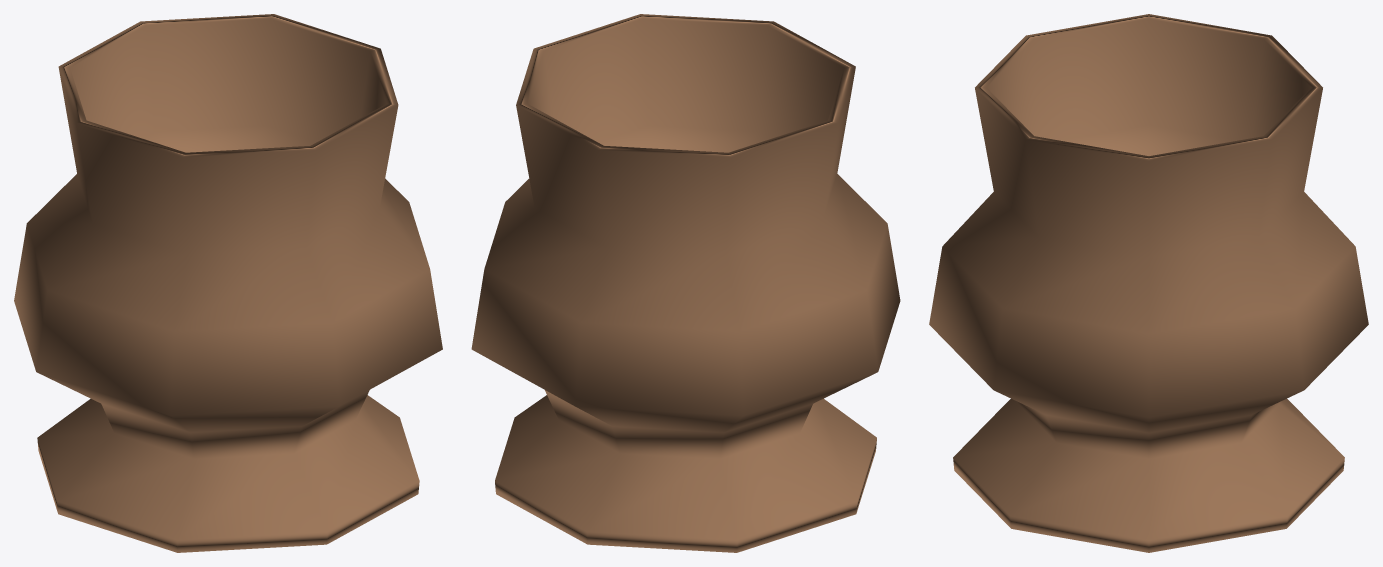
Rendered from Cup_02.fbx.
3 views of the same model, side by side, from view 1: azimuth 30°, elevation 25°; view 2: azimuth 150°, elevation 25°; view 3: azimuth 270°, elevation 25° (orthographic).
Parts seen in each view (by area): view 1: Cup_02; view 2: Cup_02; view 3: Cup_02.
Boxes of the visible parts, left/top/right/bottom form: Cup_02: left=14, top=14, right=442, bottom=552; Cup_02: left=471, top=14, right=900, bottom=552; Cup_02: left=929, top=14, right=1368, bottom=552.
Bounding box in the file's own units: 18.84 × 18.11 × 18.84.
